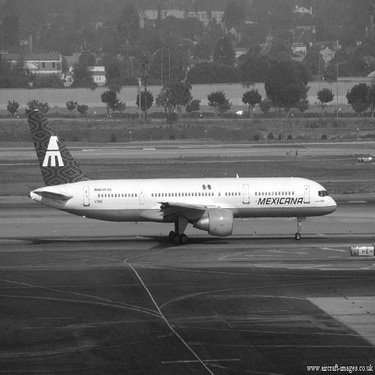airplane: (10, 88, 348, 264)
